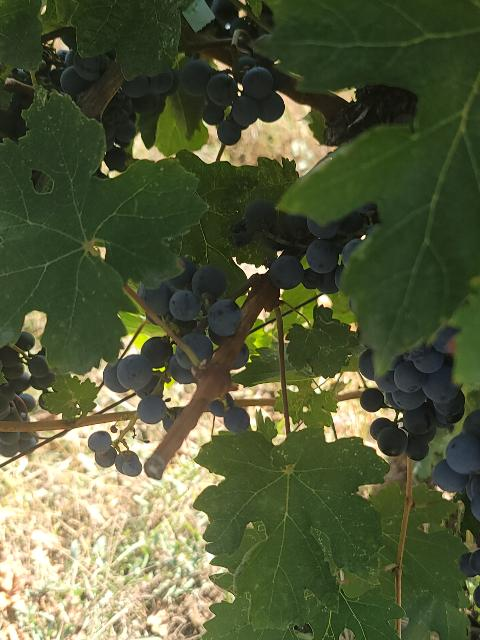grapes: (104, 262, 243, 424), (359, 345, 465, 461), (180, 60, 284, 145), (0, 331, 55, 421), (0, 431, 39, 458)
